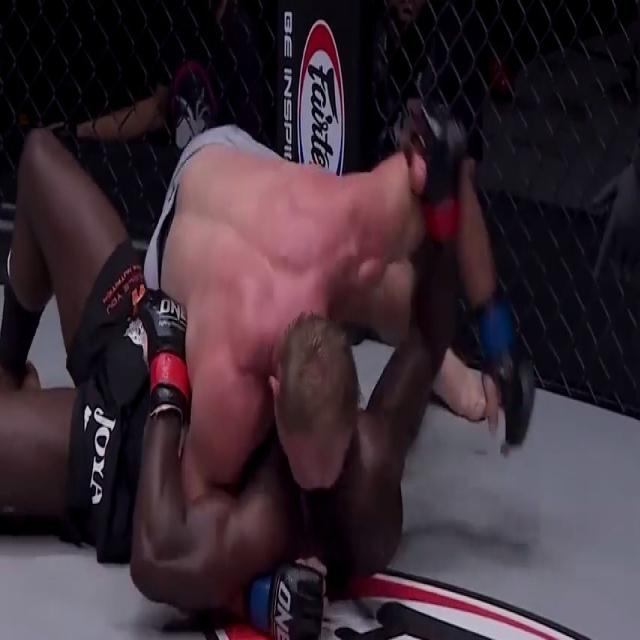fight: (0, 101, 534, 639)
